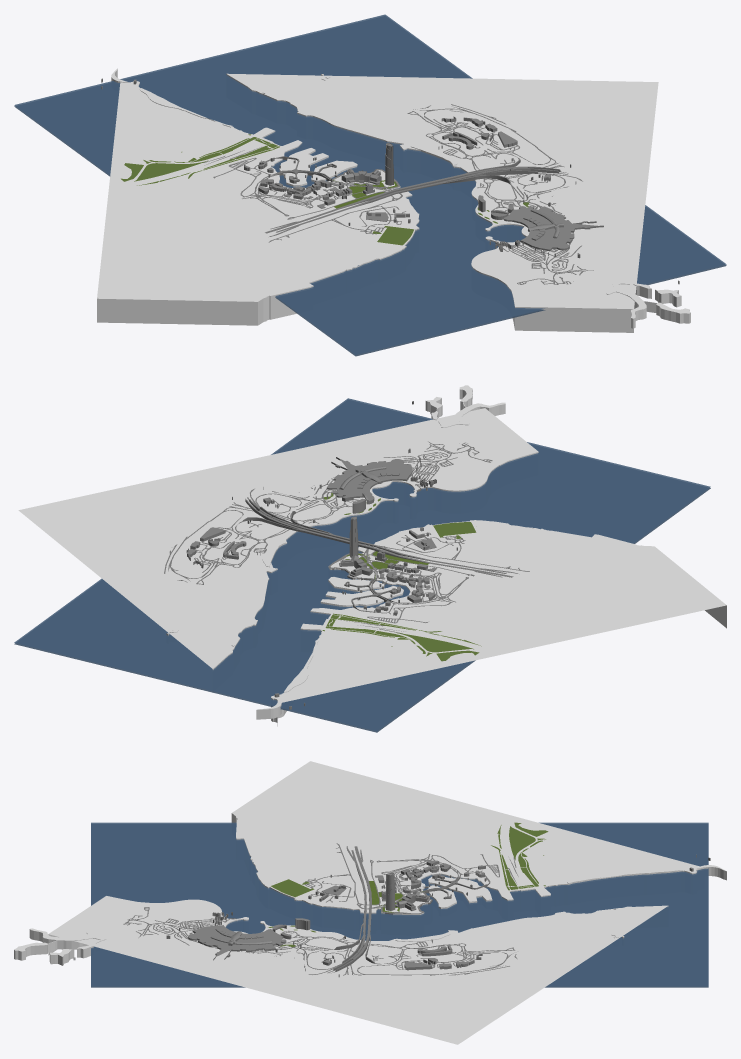
Rendered from map.glb.
The picture shows the model from 3 angles, top to bottom: view 1: azimuth 30°, elevation 25°; view 2: azimuth 150°, elevation 25°; view 3: azimuth 270°, elevation 25°; orthographic projection. The views are drawn at different scales.
Visible parts, largest first — view 1: land, water, road, build, tree; view 2: land, water, road, build, tree; view 3: land, water, road, build, tree.
Part boxes in pixels (x1=…): land: x1=97, y1=68, x2=690, y2=332; water: x1=14, y1=14, x2=726, y2=356; road: x1=203, y1=104, x2=593, y2=284; build: x1=101, y1=78, x2=679, y2=284; tree: x1=121, y1=134, x2=529, y2=245; land: x1=18, y1=385, x2=726, y2=726; water: x1=14, y1=398, x2=710, y2=732; road: x1=164, y1=441, x2=529, y2=633; build: x1=186, y1=401, x2=457, y2=709; tree: x1=322, y1=480, x2=481, y2=661; land: x1=14, y1=761, x2=726, y2=1044; water: x1=91, y1=822, x2=708, y2=987; road: x1=123, y1=843, x2=518, y2=975; build: x1=73, y1=854, x2=710, y2=977; tree: x1=268, y1=822, x2=548, y2=947.
Size of the model in its own units: 4380 by 414 by 4650.
6 materials, 2 textured.
